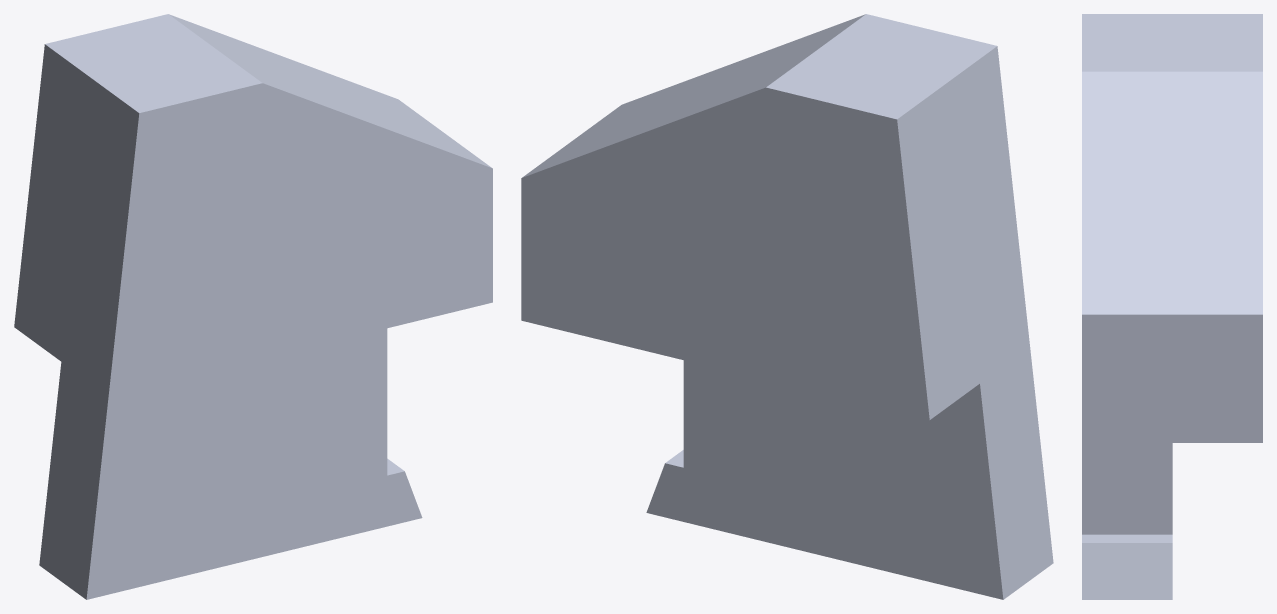
Rendered from spaceInterior_075.obj.
3 renders of one model, left to right at view 1: azimuth 30°, elevation 25°; view 2: azimuth 150°, elevation 25°; view 3: azimuth 270°, elevation 25°, orthographic. The views are drawn at different scales.
Visible parts, largest first — view 1: Mesh1 Group1 Model; view 2: Mesh1 Group1 Model; view 3: Mesh1 Group1 Model.
Part boxes in pixels (x1,y1,x2,y2): Mesh1 Group1 Model: [14, 14, 492, 599]; Mesh1 Group1 Model: [521, 14, 1053, 599]; Mesh1 Group1 Model: [1082, 14, 1262, 599].
Bounding box in the file's own units: 0.298 × 0.3321 × 0.12.
